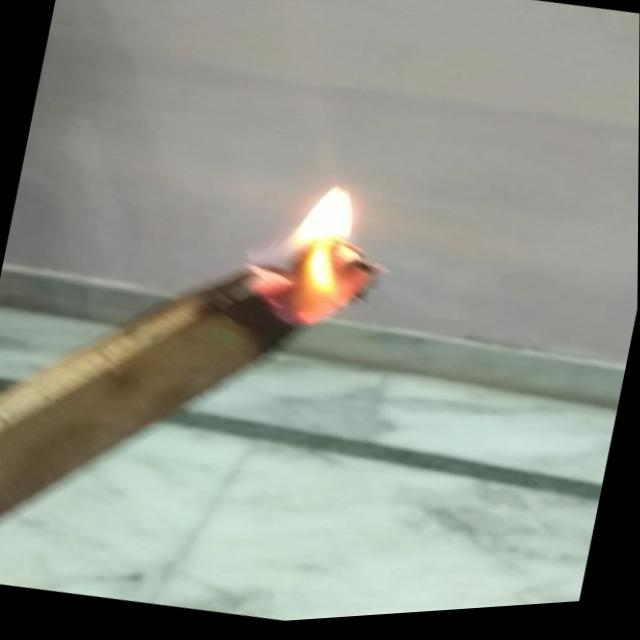fire: (228, 167, 400, 353)
